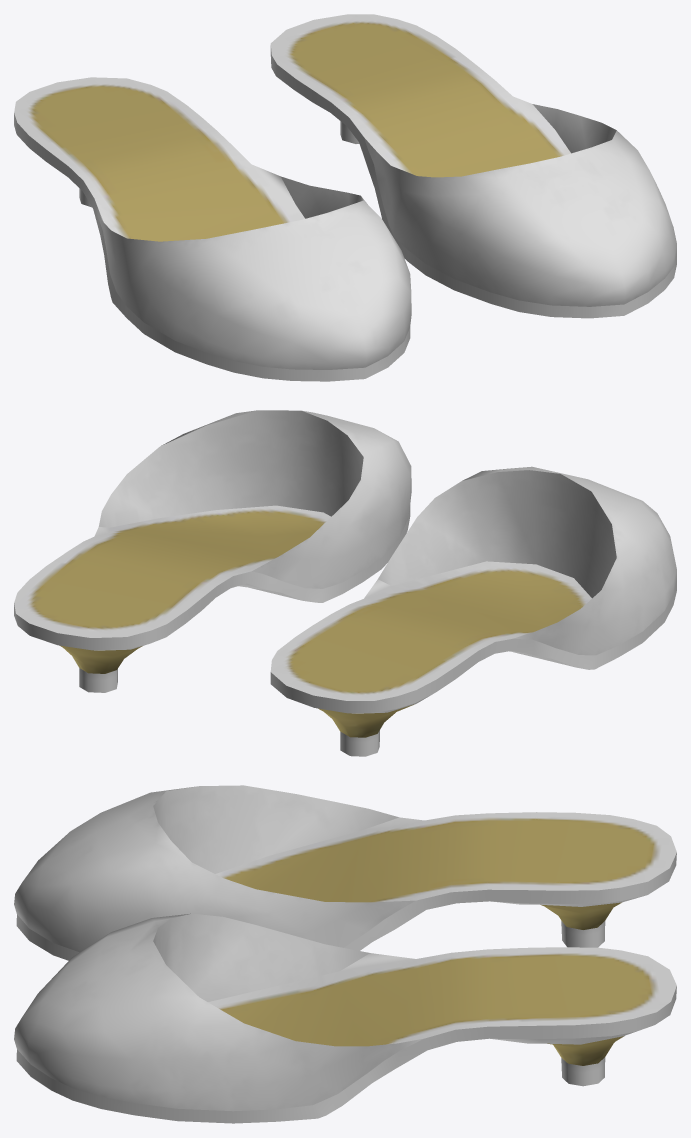
File: p0_ftw1010_00_ftw00.gltf
3 views of the same model, one above another, from view 1: azimuth 30°, elevation 25°; view 2: azimuth 150°, elevation 25°; view 3: azimuth 270°, elevation 25° (orthographic). The views are drawn at different scales.
Visible parts, largest first — view 1: ftw00_shoes_mesh_shape:shoes; view 2: ftw00_shoes_mesh_shape:shoes; view 3: ftw00_shoes_mesh_shape:shoes.
Boxes of the visible parts, bbox=[...] form: ftw00_shoes_mesh_shape:shoes: bbox=[14, 14, 676, 381]; ftw00_shoes_mesh_shape:shoes: bbox=[14, 410, 676, 756]; ftw00_shoes_mesh_shape:shoes: bbox=[14, 785, 676, 1123].
Size of what is drawn, in the model's own units: 0.2342 by 0.0569 by 0.2524.
1 material, 1 textured.
